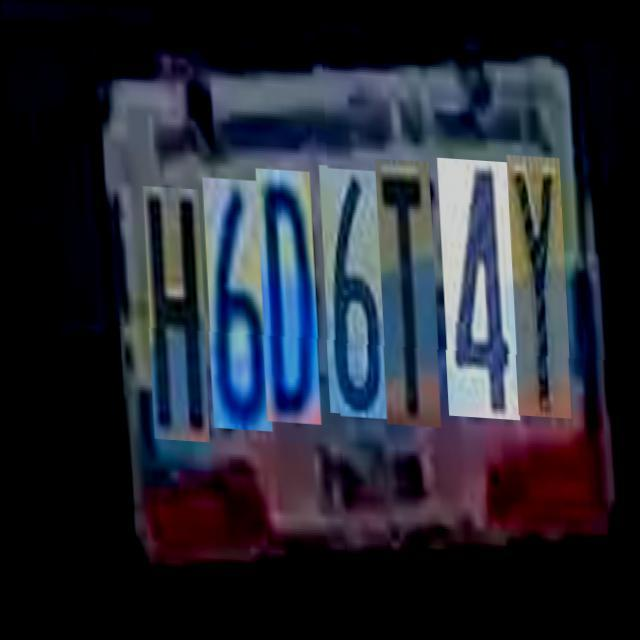4: (436, 152, 518, 414)
6: (200, 177, 270, 430), (317, 163, 385, 414)
D: (254, 168, 318, 424)
H: (141, 186, 206, 442)
T: (374, 154, 438, 422)
Y: (505, 147, 568, 410)
